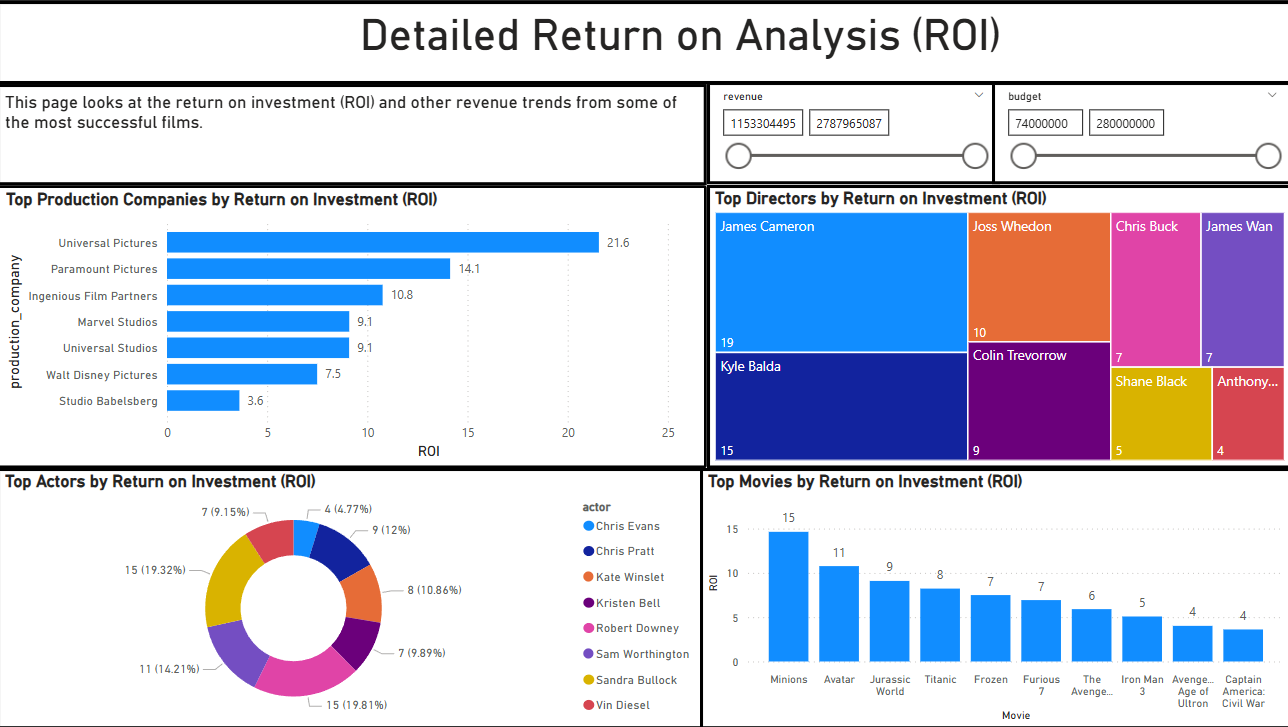

This screenshot's page, from the dashboard's own definition file:
{"tool":"powerbi","page":{"name":"Detailed ROI Analysis","canvas":[1280,720],"ordinal":1},"visuals":[{"type":"donutChart","title":"Top Actors by Return on Investment (ROI)","fields":{"Y":["Movie ROI.ROI"],"Series":["Movie ROI.actor"]},"box":[0,461.5,701.4,258.3],"z":0},{"type":"treemap","title":"Top Directors by Return on Investment (ROI)","fields":{"Group":["Top 10  most profitable actor and director pairs.director"],"Values":["Movie ROI.ROI"]},"box":[701.4,181.4,578.6,280.1],"z":1000},{"type":"clusteredColumnChart","title":"Top Movies by Return on Investment (ROI)","fields":{"Category":["Top 10  most profitable actor and director pairs.title"],"Y":["Movie ROI.ROI"]},"box":[694.5,461.5,585.5,258.3],"z":2000},{"type":"slicer","fields":{"Values":["Top 10  most profitable actor and director pairs.revenue"]},"box":[701.4,80.4,289.3,101],"z":3000},{"type":"slicer","fields":{"Values":["Top 10  most profitable actor and director pairs.budget"]},"box":[982.7,80.4,297.3,101],"z":4000},{"type":"barChart","title":"Top Production Companies by Return on Investment (ROI)","fields":{"Category":["Top 10 Production companies.production_company"],"Y":["Production Company ROI.ROI"]},"box":[0,181.4,701.4,280.1],"z":5000},{"type":"textbox","box":[0,81.5,701.4,99.9],"z":6000},{"type":"textbox","box":[0,0,1280,81.5],"z":7000}]}

Visuals, with their boxes in screenshot pixels (x1, y1, x2, y2), scaled from the page's 1280x720 canvas onto the 1288x727 screenshot:
"Top Actors by Return on Investment (ROI)" donutChart: bbox=(0, 466, 706, 726)
"Top Directors by Return on Investment (ROI)" treemap: bbox=(706, 183, 1287, 466)
"Top Movies by Return on Investment (ROI)" clusteredColumnChart: bbox=(699, 466, 1287, 726)
slicer - Top 10  most profitable actor and director pairs.revenue: bbox=(706, 81, 997, 183)
slicer - Top 10  most profitable actor and director pairs.budget: bbox=(989, 81, 1287, 183)
"Top Production Companies by Return on Investment (ROI)" barChart: bbox=(0, 183, 706, 466)
textbox: bbox=(0, 82, 706, 183)
textbox: bbox=(0, 0, 1287, 82)
